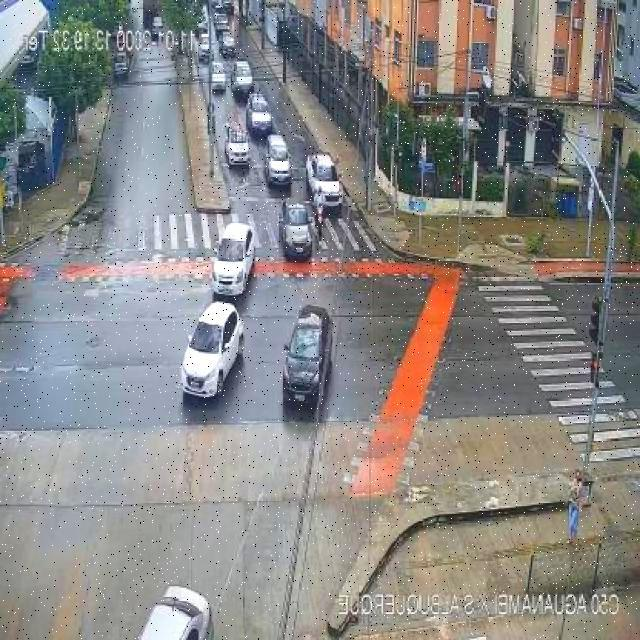Car: (180, 301, 246, 400), (281, 306, 334, 415), (211, 223, 257, 297), (305, 153, 342, 214), (280, 202, 315, 260), (264, 135, 292, 185), (224, 125, 251, 167), (246, 94, 272, 136), (232, 62, 254, 94), (210, 63, 228, 91), (613, 78, 638, 94), (220, 33, 236, 56), (197, 36, 211, 61), (214, 12, 228, 34), (114, 60, 129, 78)
